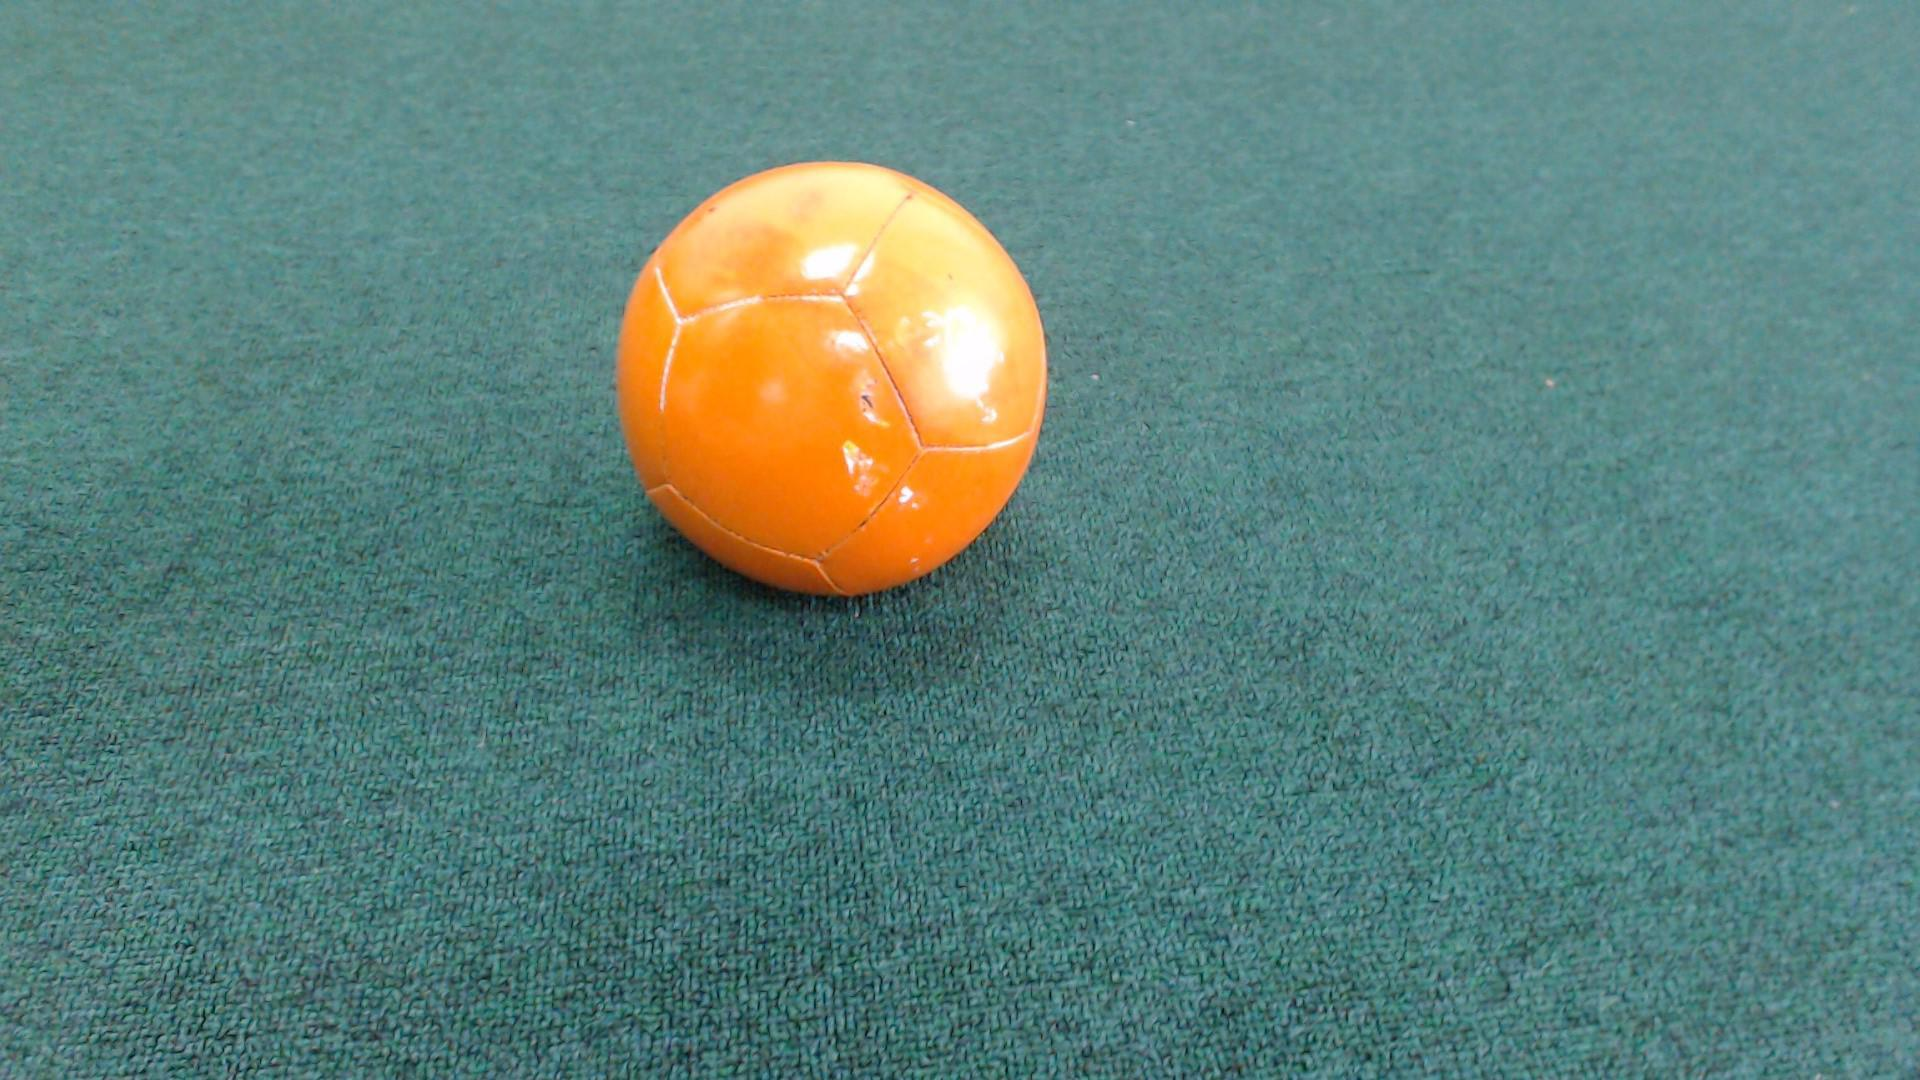bola: (571, 146, 1065, 615)
